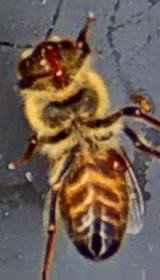varroa_mite: (101, 144, 140, 179)
